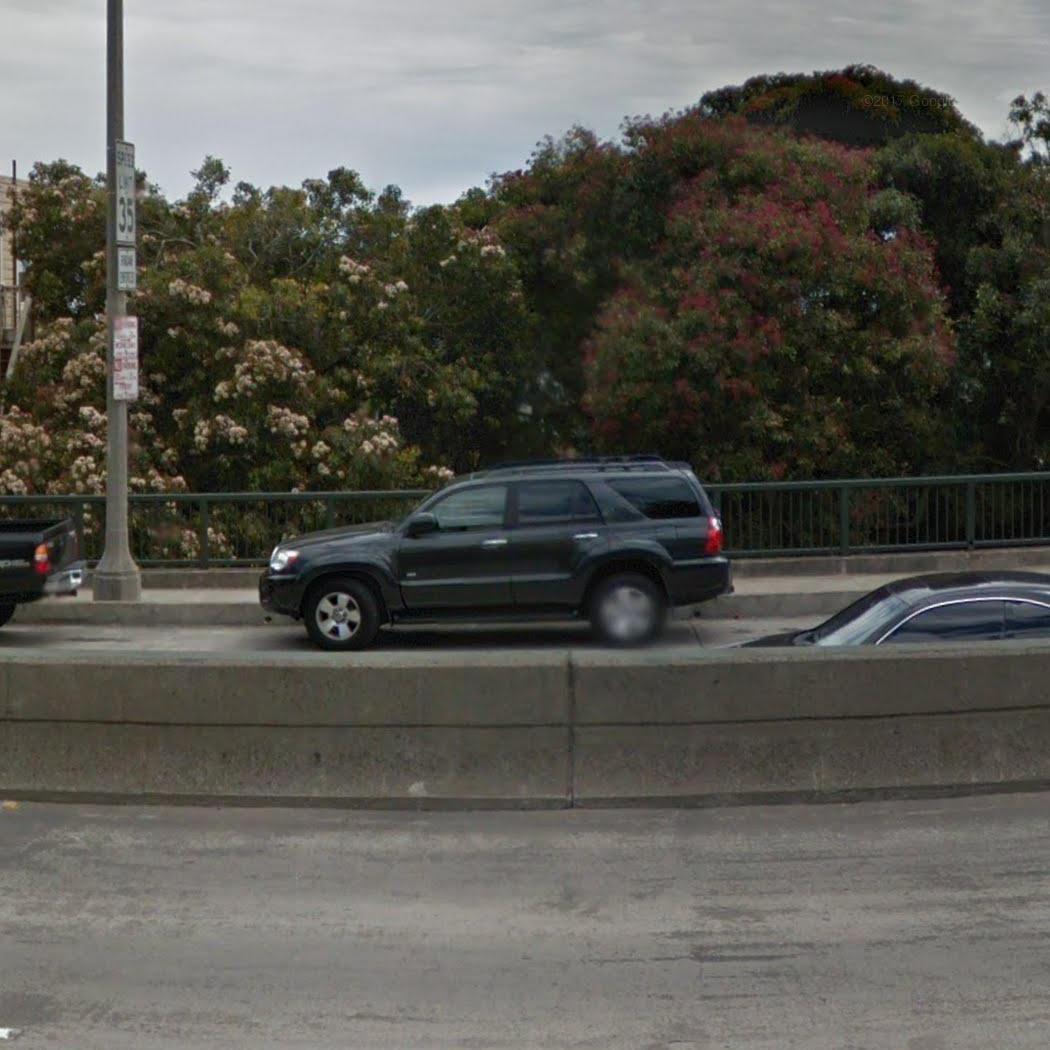No Parking: (109, 358, 140, 401), (111, 316, 140, 359)
